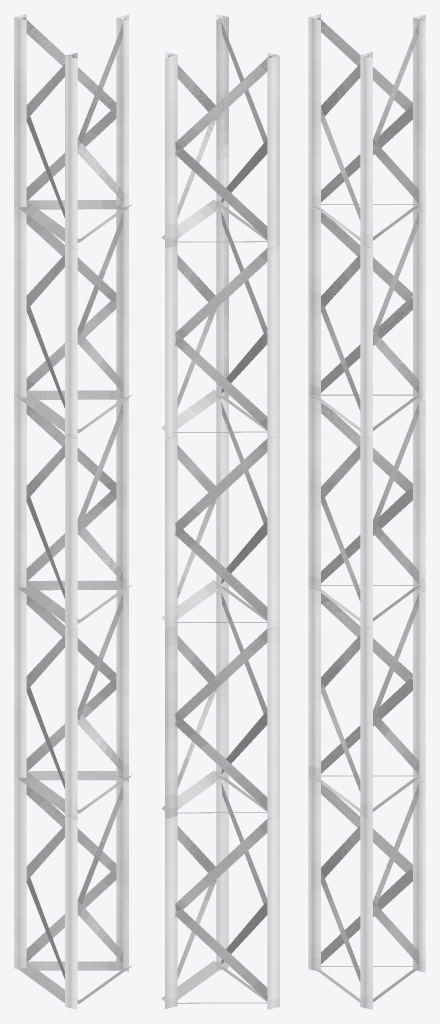
Rendered from TriStructure5Pieces.glb.
3 views of the same model, side by side, from view 1: azimuth 30°, elevation 25°; view 2: azimuth 210°, elevation 25°; view 3: azimuth 270°, elevation 25° (orthographic).
Parts seen in each view (by area): view 1: TriStructure5Pieces; view 2: TriStructure5Pieces; view 3: TriStructure5Pieces.
Part boxes in pixels (x1,y1,x2,y2): TriStructure5Pieces: [14, 14, 132, 1009]; TriStructure5Pieces: [161, 14, 279, 1009]; TriStructure5Pieces: [308, 14, 425, 1009].
Bounding box in the file's own units: 1.07 × 10.78 × 1.2.
Materials: 1 (1 with a texture image).
